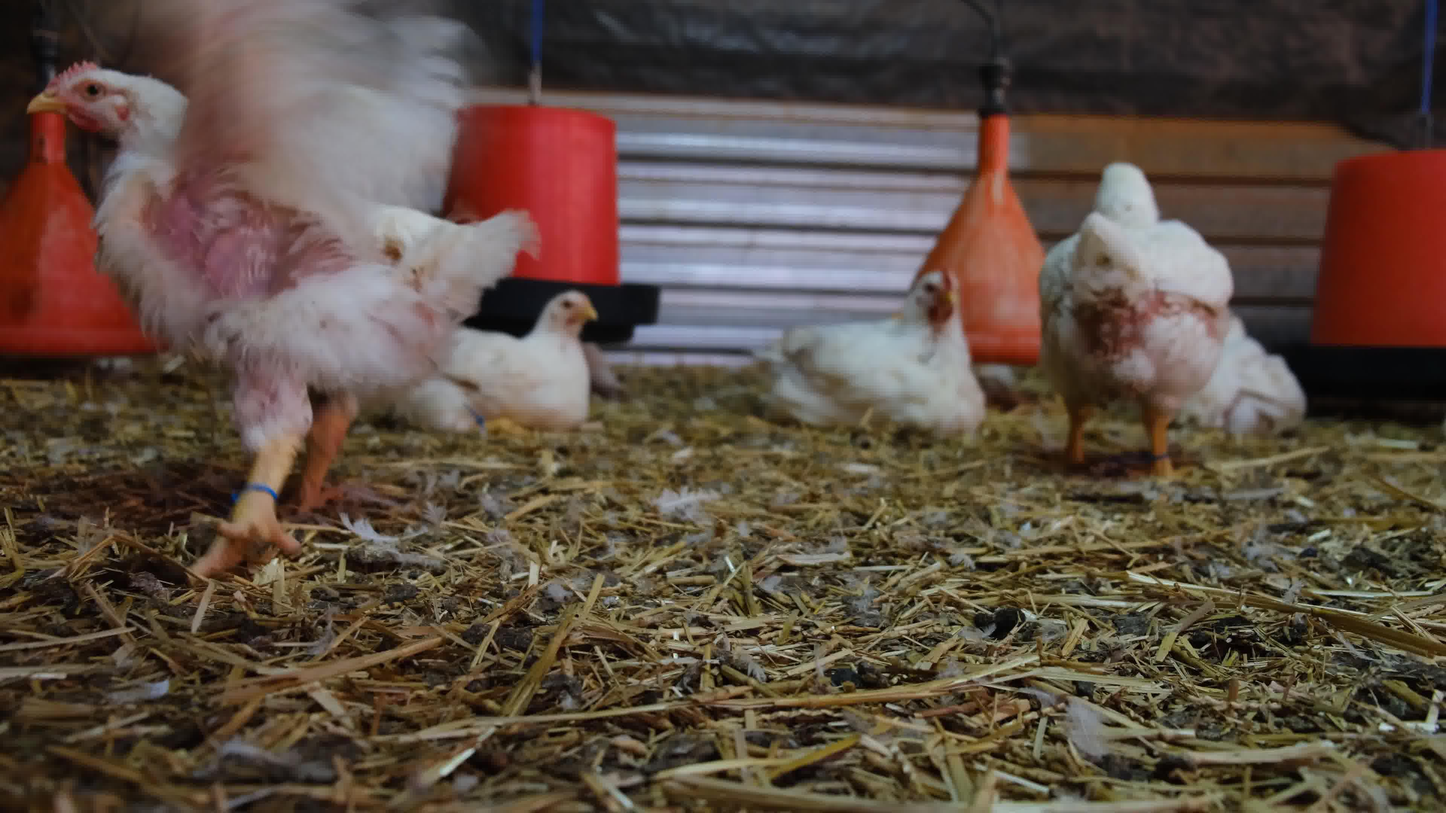AbNormal: (757, 266, 991, 425), (382, 288, 599, 426), (1170, 315, 1307, 437)
Normal: (27, 0, 524, 583), (1036, 158, 1231, 483)
